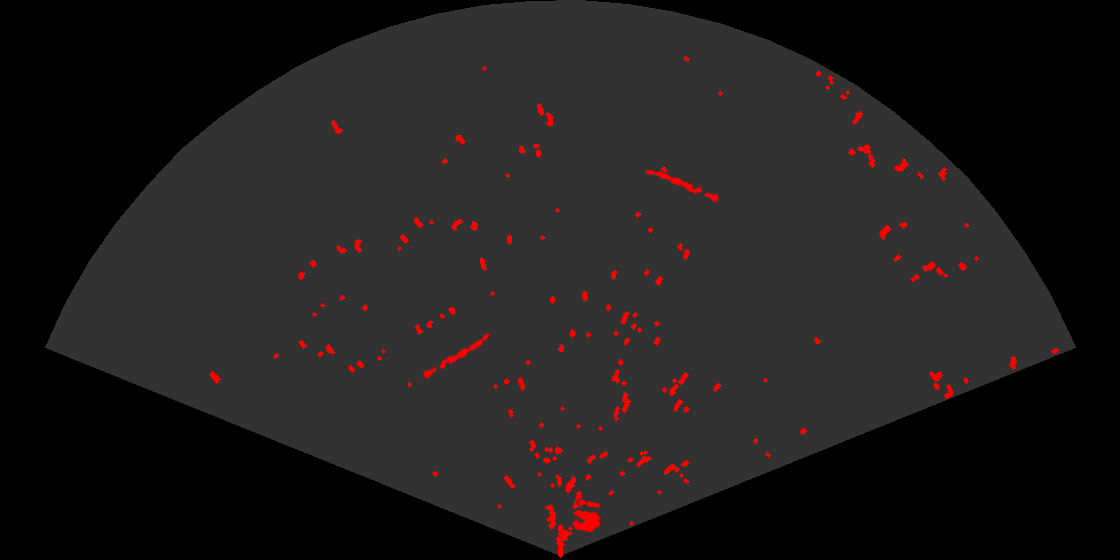ball: (570, 498, 603, 534)
chain: (417, 331, 491, 383), (643, 168, 726, 204)
